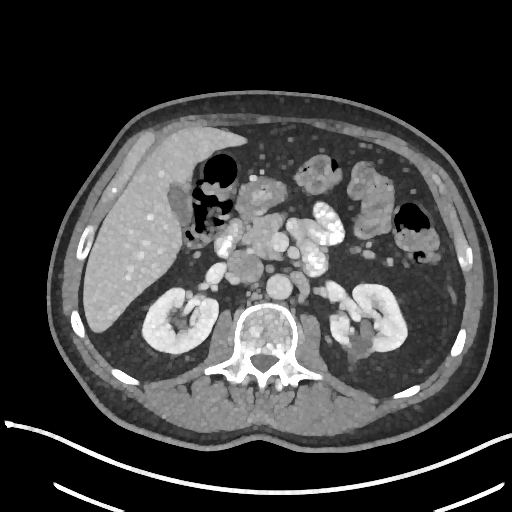Lesion: (343, 318, 377, 369)
